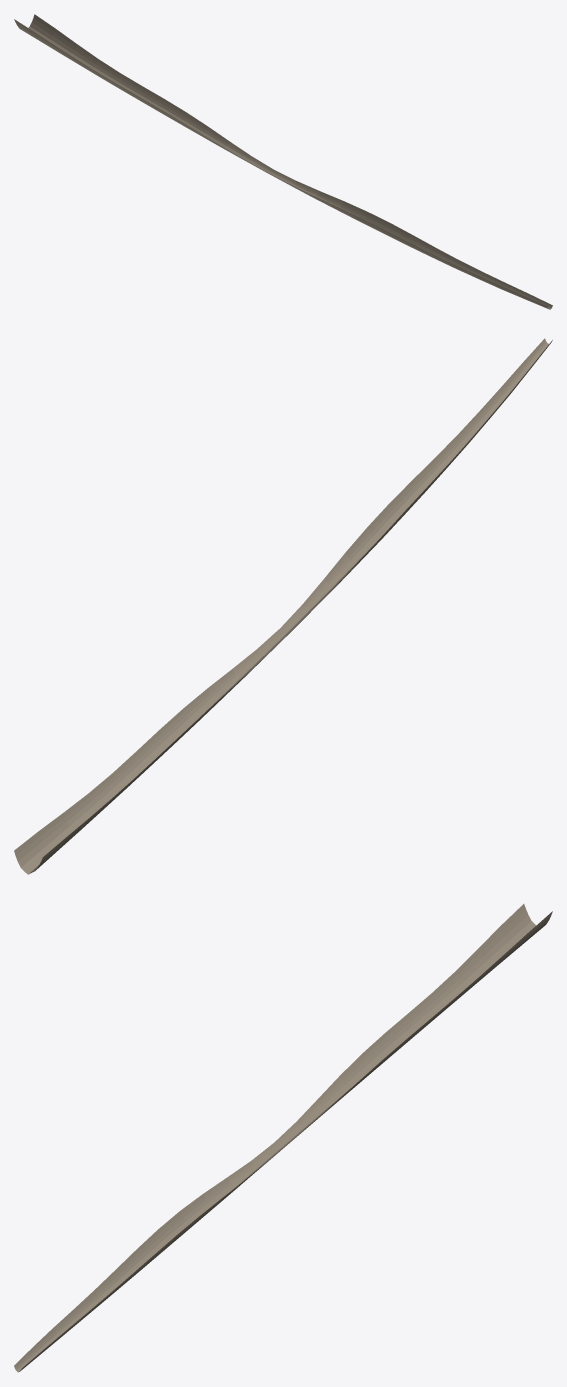
Rendered from fault_le_erosion.glb.
3 renders of one model, top to bottom at view 1: azimuth 30°, elevation 25°; view 2: azimuth 150°, elevation 25°; view 3: azimuth 330°, elevation 25°, orthographic. The views are drawn at different scales.
Visible parts, largest first — view 1: fault_le_erosion; view 2: fault_le_erosion; view 3: fault_le_erosion.
Part boxes in pixels (x1,y1,x2,y2): fault_le_erosion: (14,14,552,309); fault_le_erosion: (14,338,552,874); fault_le_erosion: (14,904,552,1372).
Bounding box in the file's own units: 1.36 × 0.5007 × 11.66.
